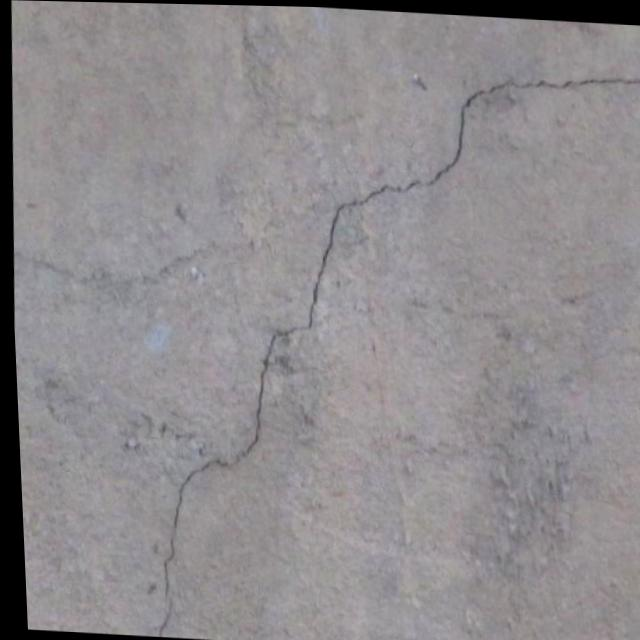Crack: (114, 33, 640, 640)
